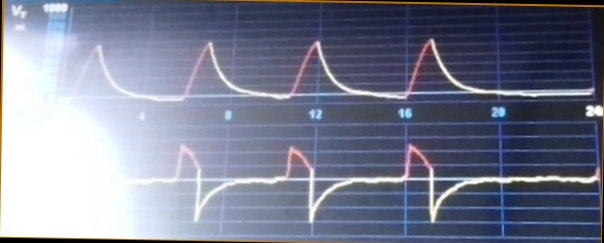Normal Flow: (124, 136, 596, 228)
Normal Volume: (69, 26, 595, 104)
